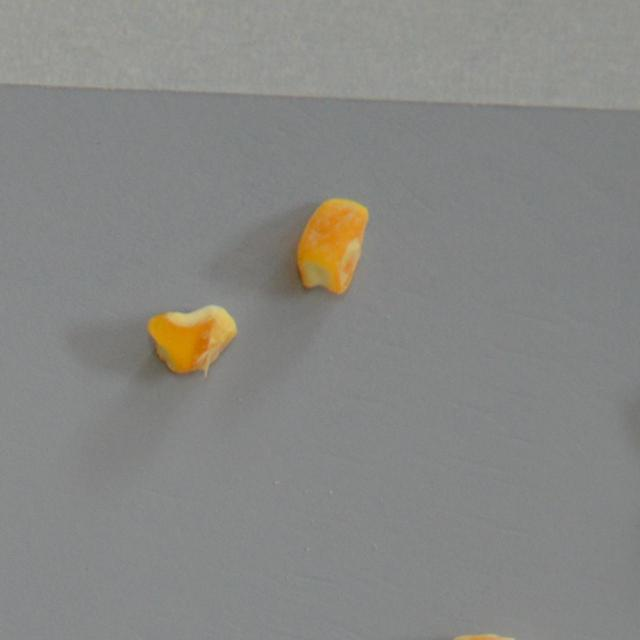dañado: (142, 302, 241, 378), (449, 630, 566, 640)
pelicula: (292, 188, 376, 296)
